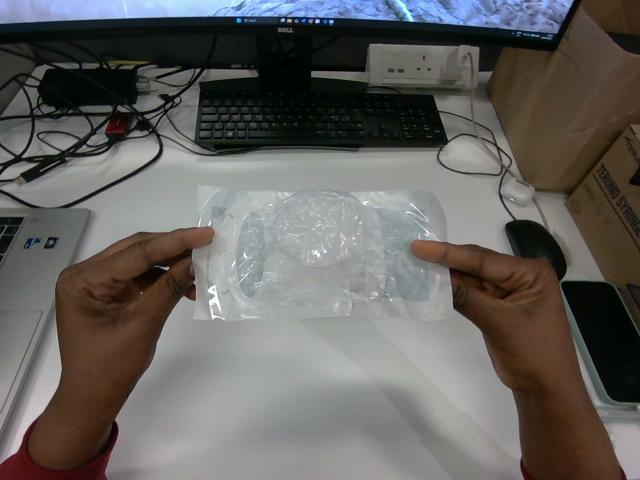gallipot: (193, 187, 451, 319)
